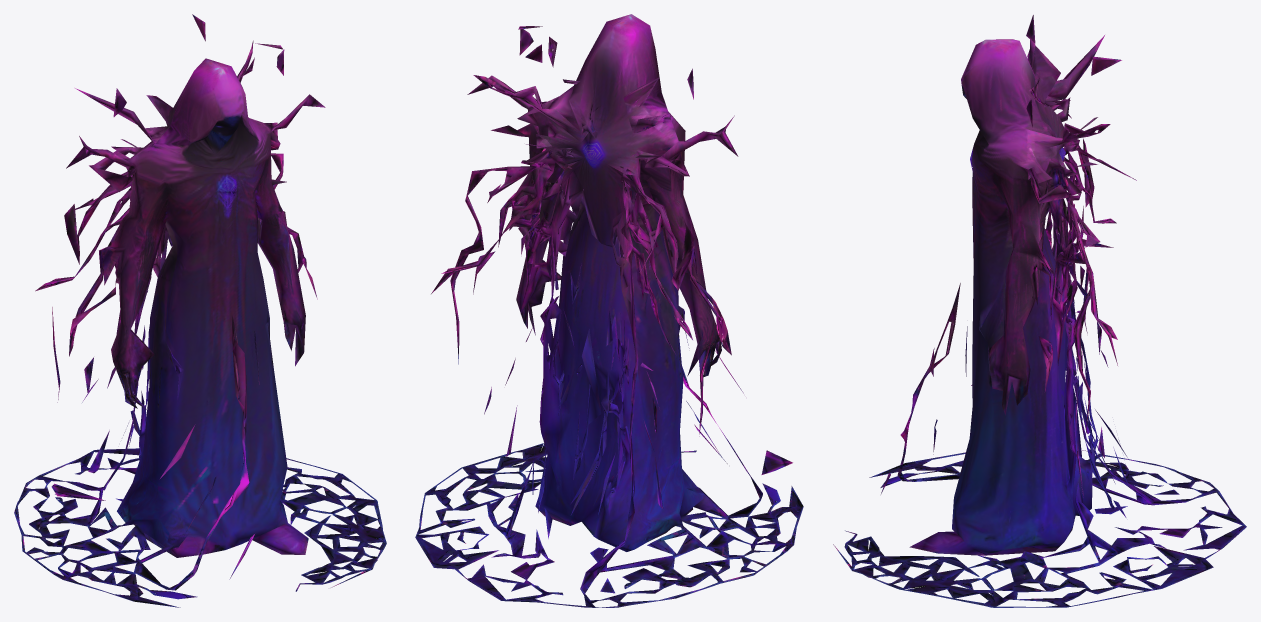
Rendered from hexWraith.glb.
3 renders of one model, left to right at view 1: azimuth 30°, elevation 25°; view 2: azimuth 150°, elevation 25°; view 3: azimuth 270°, elevation 25°, orthographic. The views are drawn at different scales.
Size of the model in its own units: 1.4 by 1.98 by 1.52.
1 material, 1 textured.
